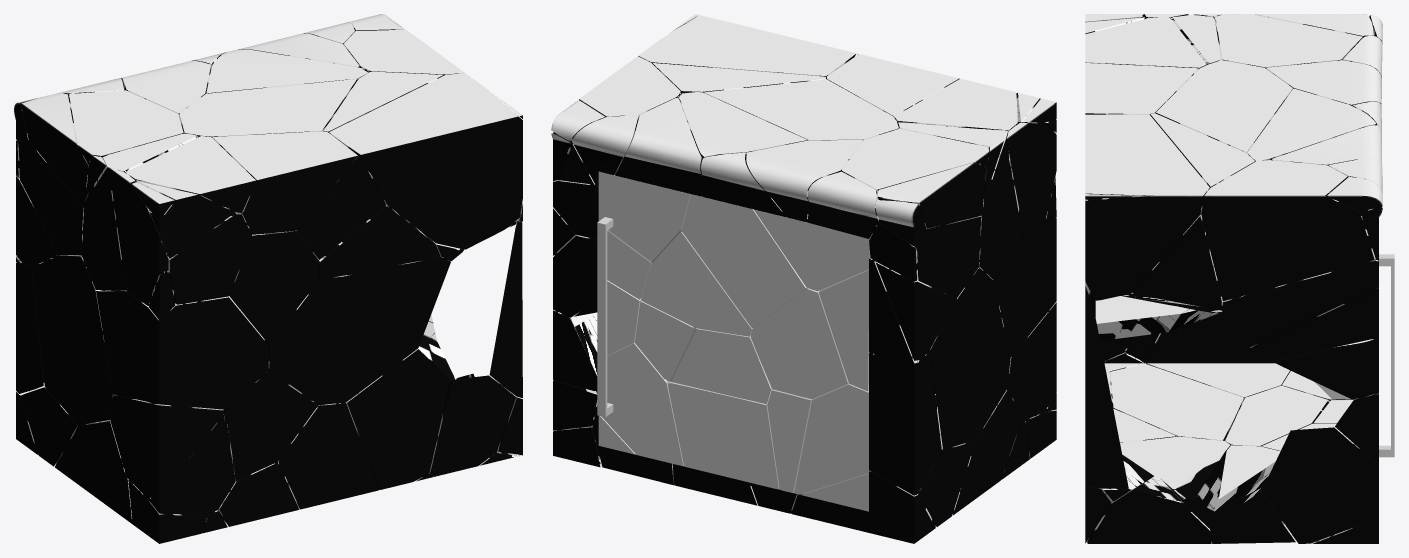
The model's file is Bathroom_Bottom_Round_Door.fbx.
3 renders of one model, left to right at view 1: azimuth 30°, elevation 25°; view 2: azimuth 150°, elevation 25°; view 3: azimuth 270°, elevation 25°, orthographic. The views are drawn at different scales.
Visible parts, largest first — view 1: Bathroom_Bottom_Round_cell.044, Bathroom_Bottom_Round_cell.028, Bathroom_Bottom_Round_cell.018, Bathroom_Bottom_Round_cell.006, Bathroom_Bottom_Round_cell.027, Bathroom_Bottom_Round_cell.007, Bathroom_Bottom_Round_cell.010, Bathroom_Bottom_Round_cell.019, Bathroom_Bottom_Round_cell.002, Bathroom_Bottom_Round_cell.013, Bathroom_Bottom_Round_cell.003, Bathroom_Bottom_Round_cell.072 (+31 smaller); view 2: Bathroom_Bottom_Round_cell.006, Bathroom_sink_2_Door_cell.016, Bathroom_Bottom_Round_cell.020, Bathroom_sink_2_Door_cell.017, Bathroom_Bottom_Round_cell.044, Bathroom_Bottom_Round_cell.010, Bathroom_sink_2_Door_cell.018, Bathroom_sink_2_Door_cell.006, Bathroom_sink_2_Door_cell.005, Bathroom_sink_2_Door_cell.004, Bathroom_Bottom_Round_cell.078, Bathroom_Bottom_Round_cell.018 (+46 smaller); view 3: Bathroom_Bottom_Round_cell.074, Bathroom_Bottom_Round_cell.044, Bathroom_Bottom_Round_cell.057, Bathroom_Bottom_Round_cell.064, Bathroom_Bottom_Round_cell.010, Bathroom_Bottom_Round_cell.030, Bathroom_Bottom_Round_cell.061, Bathroom_Bottom_Round_cell.065, Bathroom_Bottom_Round_cell.040, Bathroom_Bottom_Round_cell.076, Bathroom_Bottom_Round_cell.068, Bathroom_Bottom_Round_cell.082 (+30 smaller).
Boxes of the visible parts, x1=… form: Bathroom_Bottom_Round_cell.044: x1=329, y1=73, x2=522, y2=249; Bathroom_Bottom_Round_cell.028: x1=198, y1=257, x2=450, y2=404; Bathroom_Bottom_Round_cell.018: x1=96, y1=291, x2=268, y2=409; Bathroom_Bottom_Round_cell.006: x1=32, y1=255, x2=144, y2=424; Bathroom_Bottom_Round_cell.027: x1=345, y1=349, x2=450, y2=489; Bathroom_Bottom_Round_cell.007: x1=212, y1=131, x2=357, y2=234; Bathroom_Bottom_Round_cell.010: x1=179, y1=79, x2=356, y2=137; Bathroom_Bottom_Round_cell.019: x1=110, y1=395, x2=224, y2=498; Bathroom_Bottom_Round_cell.002: x1=278, y1=402, x2=378, y2=509; Bathroom_Bottom_Round_cell.013: x1=229, y1=231, x2=318, y2=344; Bathroom_Bottom_Round_cell.003: x1=223, y1=371, x2=317, y2=480; Bathroom_Bottom_Round_cell.072: x1=429, y1=375, x2=515, y2=476; Bathroom_Bottom_Round_cell.006: x1=930, y1=267, x2=1010, y2=449; Bathroom_sink_2_Door_cell.016: x1=681, y1=194, x2=807, y2=328; Bathroom_Bottom_Round_cell.020: x1=869, y1=351, x2=941, y2=495; Bathroom_sink_2_Door_cell.017: x1=667, y1=381, x2=779, y2=489; Bathroom_Bottom_Round_cell.044: x1=638, y1=15, x2=856, y2=78; Bathroom_Bottom_Round_cell.010: x1=704, y1=79, x2=898, y2=140; Bathroom_sink_2_Door_cell.018: x1=750, y1=288, x2=848, y2=399; Bathroom_sink_2_Door_cell.006: x1=601, y1=342, x2=683, y2=466; Bathroom_sink_2_Door_cell.005: x1=794, y1=383, x2=869, y2=494; Bathroom_sink_2_Door_cell.004: x1=641, y1=231, x2=752, y2=336; Bathroom_Bottom_Round_cell.078: x1=615, y1=98, x2=704, y2=196; Bathroom_Bottom_Round_cell.018: x1=993, y1=218, x2=1056, y2=357; Bathroom_Bottom_Round_cell.074: x1=1201, y1=160, x2=1375, y2=301; Bathroom_Bottom_Round_cell.044: x1=1085, y1=114, x2=1209, y2=301; Bathroom_Bottom_Round_cell.057: x1=1261, y1=427, x2=1378, y2=543; Bathroom_Bottom_Round_cell.064: x1=1121, y1=113, x2=1255, y2=314; Bathroom_Bottom_Round_cell.010: x1=1156, y1=60, x2=1292, y2=154; Bathroom_Bottom_Round_cell.030: x1=1110, y1=333, x2=1243, y2=440; Bathroom_Bottom_Round_cell.061: x1=1145, y1=314, x2=1290, y2=418; Bathroom_Bottom_Round_cell.065: x1=1222, y1=259, x2=1378, y2=347; Bathroom_Bottom_Round_cell.040: x1=1195, y1=445, x2=1297, y2=543; Bathroom_Bottom_Round_cell.076: x1=1215, y1=14, x2=1362, y2=67; Bathroom_Bottom_Round_cell.068: x1=1086, y1=477, x2=1211, y2=543; Bathroom_Bottom_Round_cell.082: x1=1085, y1=303, x2=1128, y2=488.
Size of the model in its own units: 87.79 by 78.42 by 63.18.
